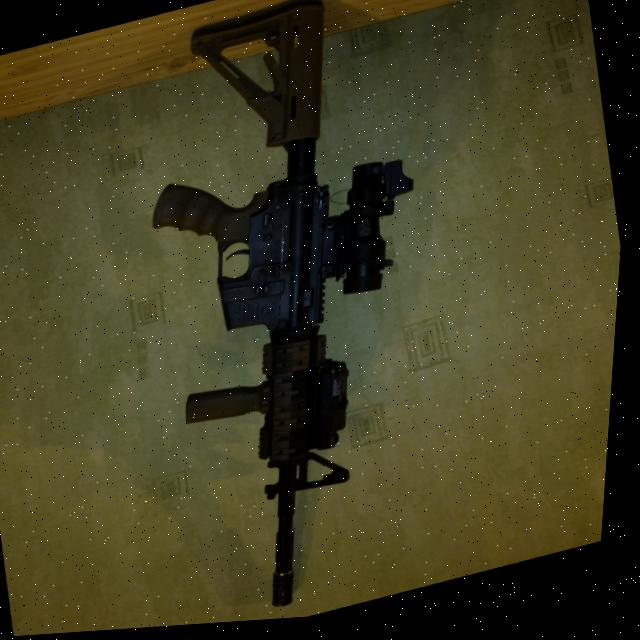firearm: (92, 0, 506, 633)
